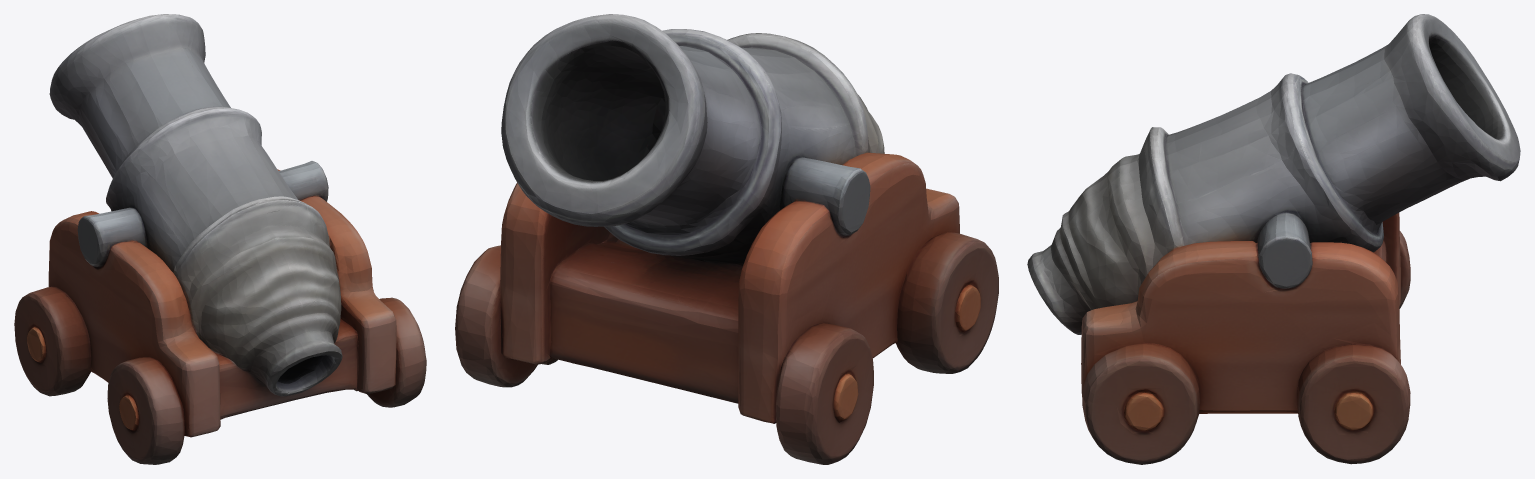
File: cannon.glb
The picture shows the model from 3 angles, left to right: view 1: azimuth 30°, elevation 25°; view 2: azimuth 150°, elevation 25°; view 3: azimuth 270°, elevation 25°; orthographic projection. The views are drawn at different scales.
Visible parts, largest first — view 1: world; view 2: world; view 3: world.
Boxes of the visible parts, bbox=[...] form: world: bbox=[14, 14, 426, 464]; world: bbox=[455, 14, 998, 464]; world: bbox=[1027, 14, 1520, 464].
Size of the model in its own units: 1.14 by 1.27 by 1.54.
Materials: 1 (1 with a texture image).
